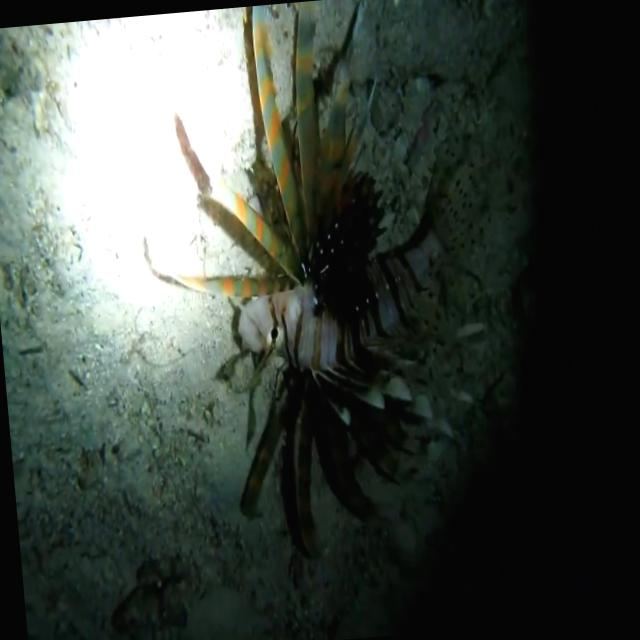Aslan Baligi: (130, 0, 563, 611)
